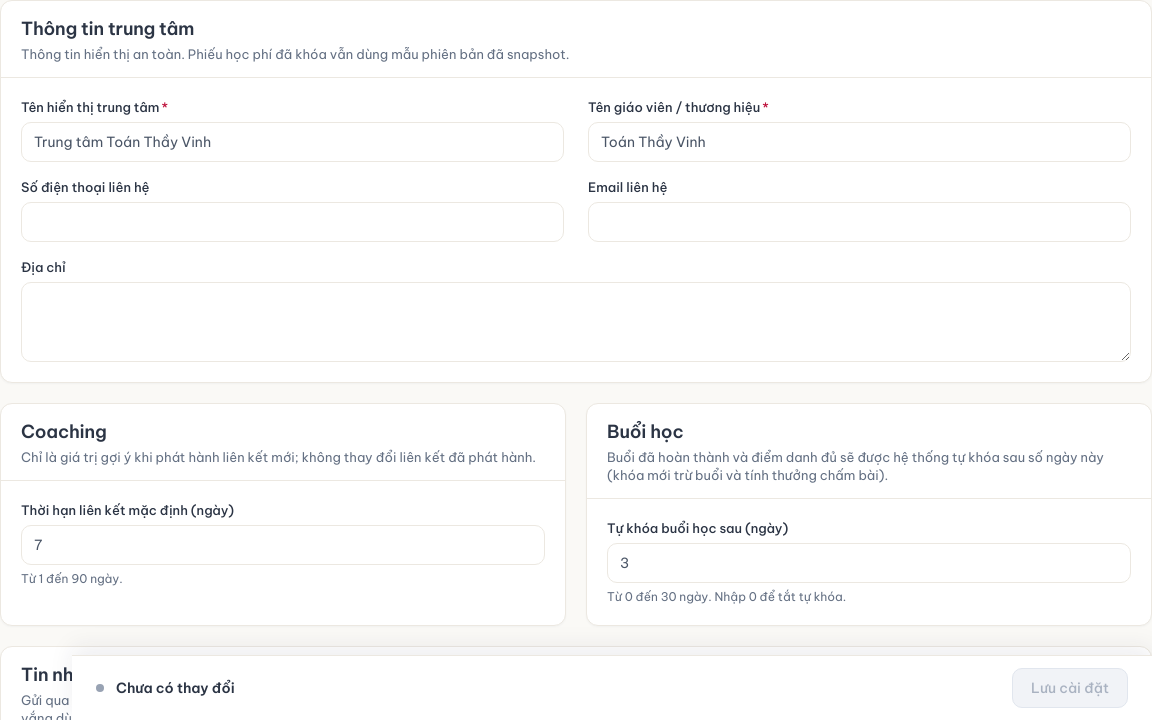
Test: SystemSettingsForm save bar › returns to clean after a successful save
This screenshot has width=1152, height=720.
Type "a@b.vn" into the field labelled "Email liên hệ".
click(860, 222); type("a@b.vn")  # box [588,202,1131,242]
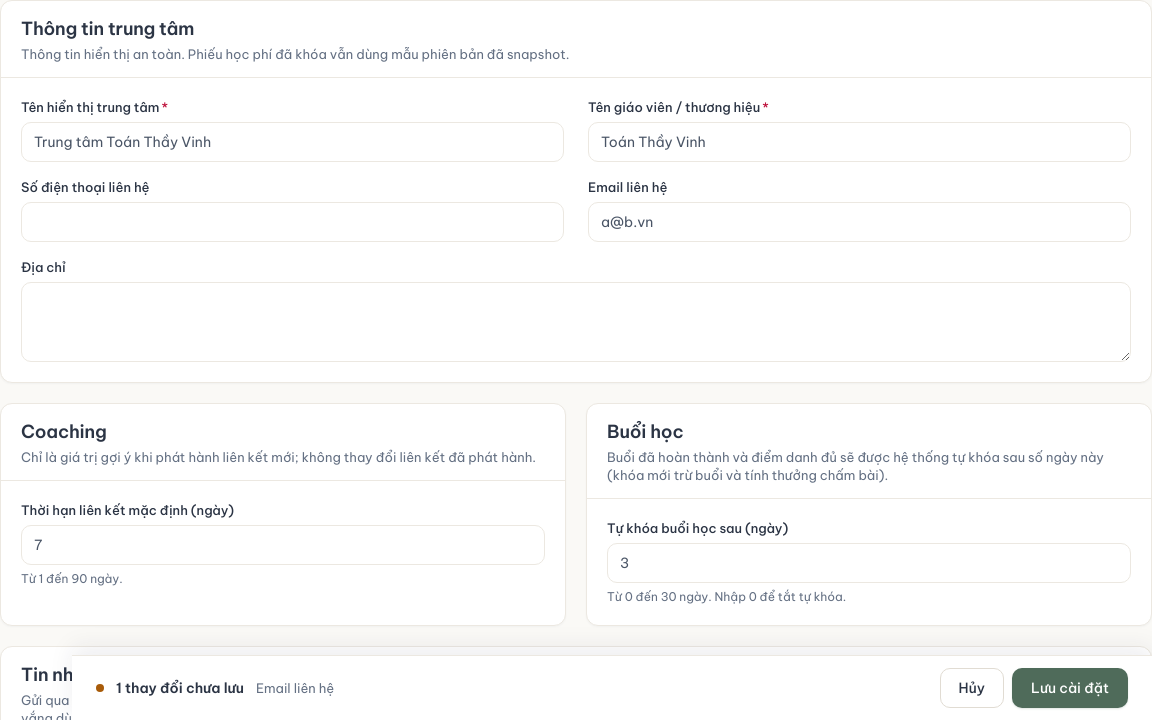
Now the element named "Thanh lưu thay đổi" shows "1 thay đổi chưa lưu", box [116,679,244,697]
Click the button "Lưu cài đặt".
click(1070, 688)  # box [1012,668,1128,708]
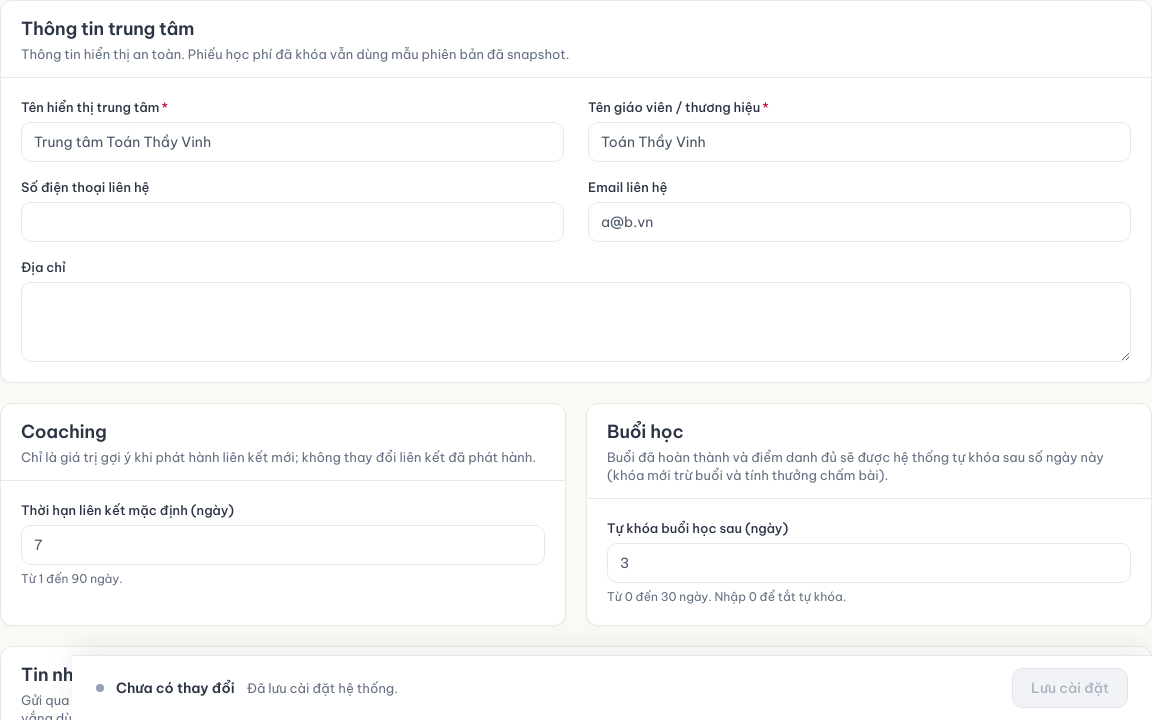
Now the message reads "Đã lưu cài đặt hệ thống.", box [247,680,398,696]
Now the element named "Thanh lưu thay đổi" shows "Chưa có thay đổi", box [116,679,235,697]
